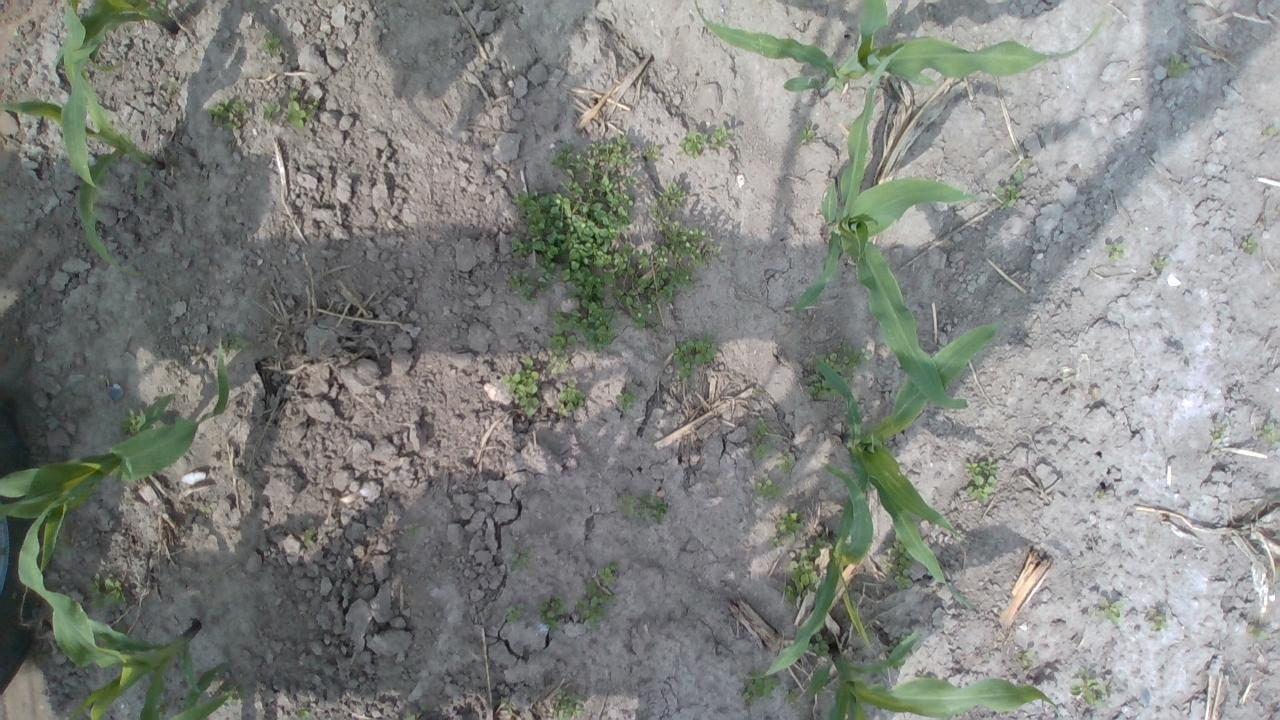Maize: (793, 43, 972, 410), (0, 340, 230, 580), (814, 322, 1002, 614), (0, 0, 166, 273), (18, 497, 210, 720), (694, 0, 1104, 97), (746, 444, 875, 680), (802, 622, 1064, 720), (48, 0, 178, 73), (137, 653, 230, 720)
Weeds: (508, 173, 636, 270), (615, 242, 694, 330), (570, 300, 620, 354), (501, 356, 544, 418), (560, 260, 616, 302), (575, 134, 634, 172), (672, 336, 717, 382), (822, 344, 872, 384), (666, 222, 706, 272), (614, 493, 670, 528), (575, 582, 614, 628), (84, 572, 130, 608), (881, 540, 914, 590), (207, 96, 250, 130), (741, 670, 781, 706), (963, 460, 999, 500), (1072, 670, 1106, 710), (548, 312, 580, 354), (285, 90, 319, 128), (994, 170, 1024, 210), (538, 592, 568, 630), (506, 269, 538, 304), (789, 558, 820, 594), (806, 368, 840, 400), (556, 686, 586, 720), (558, 382, 586, 417), (550, 142, 575, 178), (115, 413, 144, 442), (680, 132, 709, 160), (658, 182, 684, 209), (597, 560, 619, 590), (802, 536, 828, 561), (775, 512, 800, 538), (222, 330, 252, 350), (1165, 55, 1191, 78), (614, 384, 636, 410), (260, 30, 282, 56), (1100, 598, 1122, 624), (756, 479, 785, 498), (647, 206, 669, 231), (808, 631, 828, 657), (546, 354, 570, 375), (1254, 424, 1280, 442), (1104, 241, 1126, 262), (222, 688, 245, 708), (538, 270, 554, 297), (713, 126, 737, 144), (1246, 623, 1270, 641), (752, 442, 771, 464), (751, 416, 769, 439), (260, 102, 280, 122), (775, 455, 795, 474), (504, 606, 522, 625), (510, 552, 529, 570), (888, 634, 906, 653), (1241, 236, 1258, 256), (1151, 613, 1168, 632), (643, 142, 660, 160), (799, 127, 816, 144), (1019, 650, 1036, 666), (786, 688, 801, 706), (1212, 425, 1224, 445), (303, 528, 315, 546), (295, 707, 311, 720), (1154, 257, 1170, 270), (783, 588, 799, 600), (202, 502, 217, 514), (708, 243, 721, 256), (892, 658, 906, 668), (402, 711, 417, 720), (769, 538, 782, 548), (419, 702, 430, 712), (168, 76, 176, 89), (182, 0, 192, 10), (905, 642, 912, 656), (408, 527, 416, 537), (1264, 126, 1272, 134)
